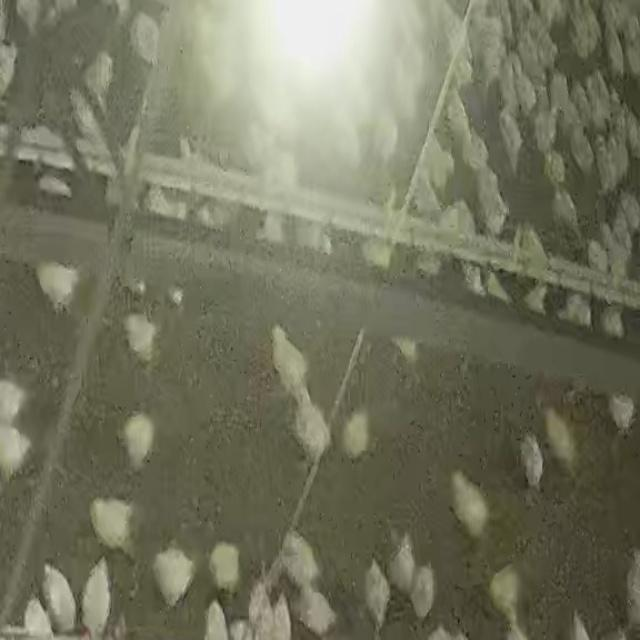chicken: (265, 327, 311, 398), (32, 247, 82, 310), (39, 559, 79, 635), (90, 498, 140, 558), (78, 556, 112, 639), (290, 574, 335, 636), (154, 543, 195, 606), (450, 471, 488, 534), (475, 163, 509, 233), (541, 402, 576, 469), (294, 388, 326, 461), (66, 90, 106, 143), (490, 564, 522, 629), (121, 412, 155, 473), (364, 558, 389, 636), (81, 53, 115, 106), (126, 312, 158, 367), (388, 532, 416, 593), (550, 177, 581, 232), (209, 541, 241, 594), (288, 528, 318, 584), (409, 561, 437, 617), (516, 433, 545, 485), (563, 119, 592, 171), (502, 104, 524, 170), (0, 437, 37, 442)
